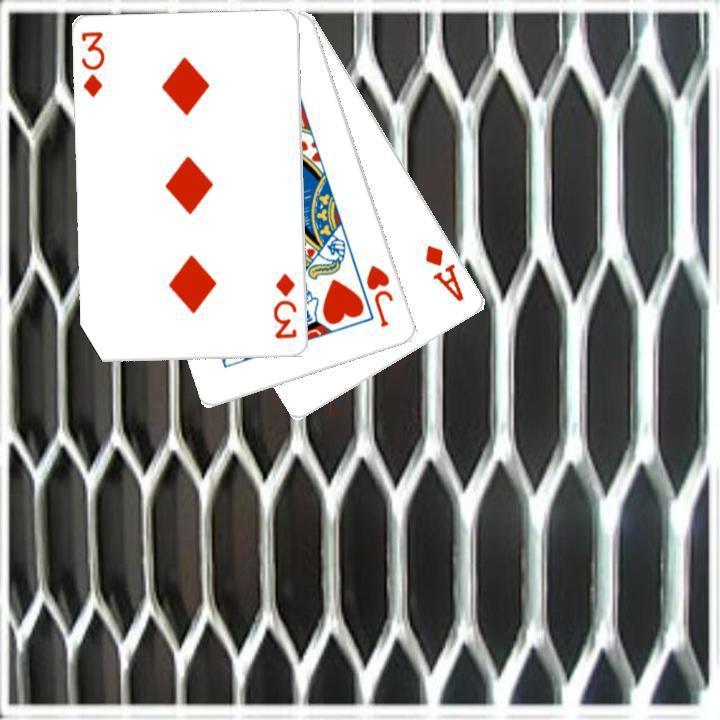3: (77, 28, 108, 100), (270, 269, 300, 341)
A: (421, 240, 467, 304)
J: (362, 261, 396, 330)
